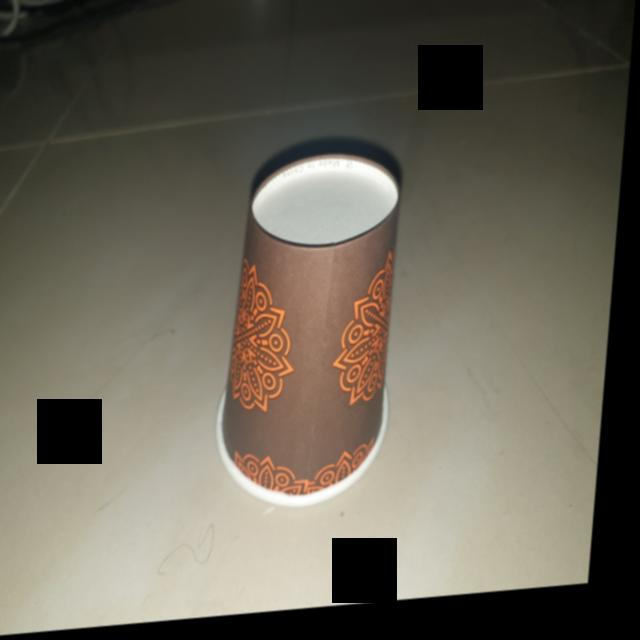cups: (218, 147, 417, 520)
